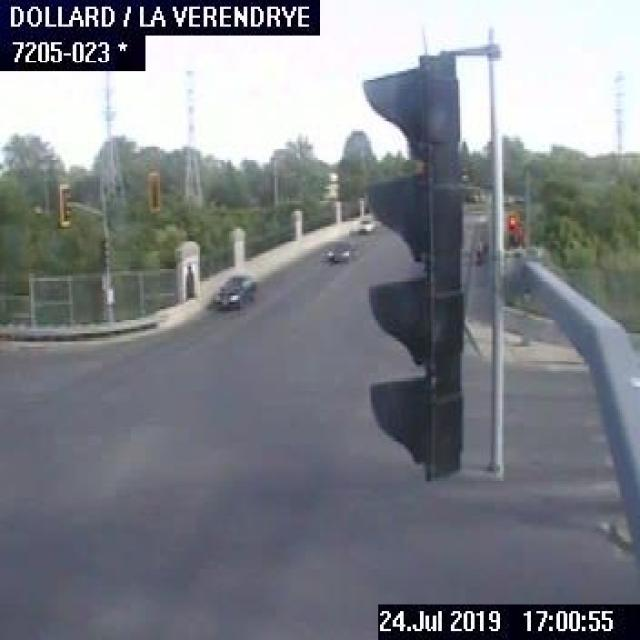vehicle: (211, 270, 252, 306), (324, 237, 354, 263), (354, 214, 374, 234)
